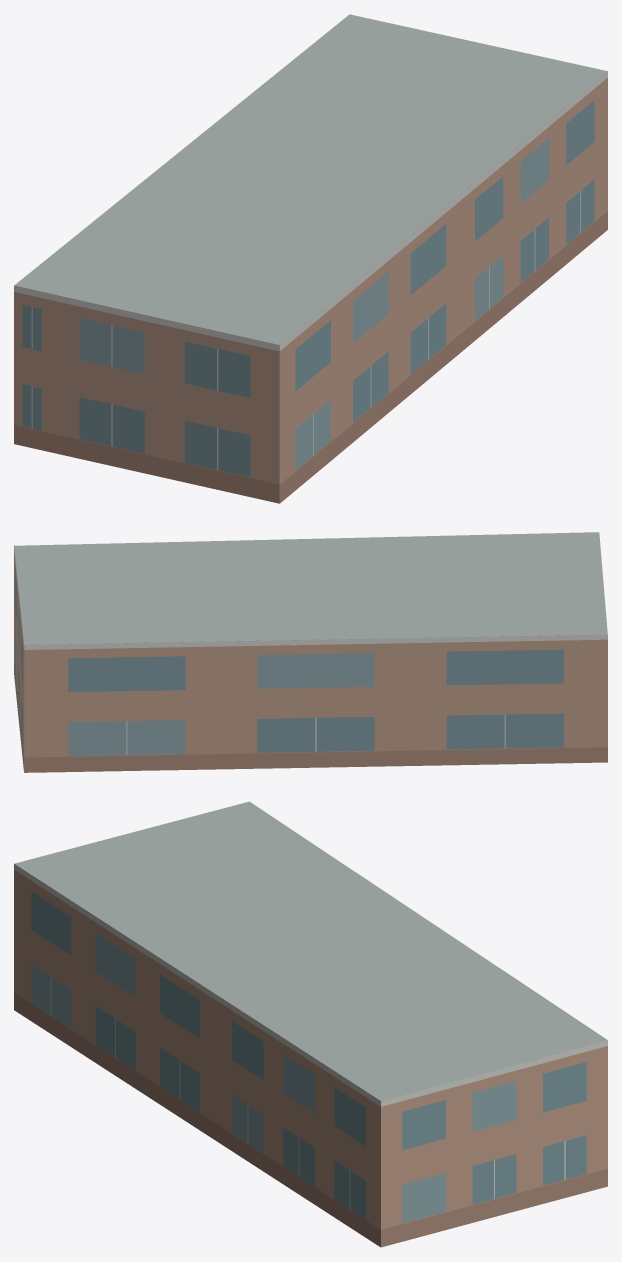
Rendered from survey-upis-32597457.glb.
3 views of the same model, one above another, from view 1: azimuth 30°, elevation 25°; view 2: azimuth 150°, elevation 25°; view 3: azimuth 270°, elevation 25° (orthographic). The views are drawn at different scales.
Visible parts, largest first — view 1: survey-upis-32597457.tmp; view 2: survey-upis-32597457.tmp; view 3: survey-upis-32597457.tmp.
Boxes of the visible parts, x1,y1,x2,y2 form: survey-upis-32597457.tmp: (14,14,607,503); survey-upis-32597457.tmp: (14,532,607,772); survey-upis-32597457.tmp: (14,801,607,1247).
Bounding box in the file's own units: 26.78 × 6.1 × 22.43.
